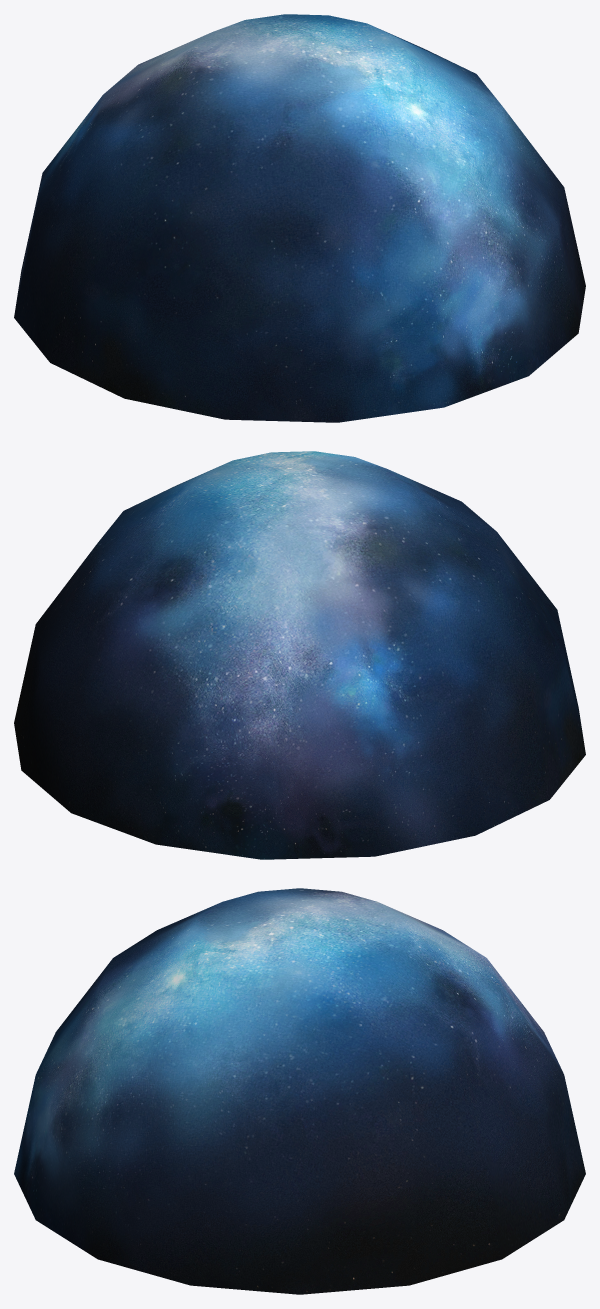
Rendered from Sky3fbx.fbx.
3 renders of one model, top to bottom at view 1: azimuth 30°, elevation 25°; view 2: azimuth 150°, elevation 25°; view 3: azimuth 270°, elevation 25°, orthographic.
Parts seen in each view (by area): view 1: LV_AncientTower_Env_AstroSky_SM_KBE; view 2: LV_AncientTower_Env_AstroSky_SM_KBE; view 3: LV_AncientTower_Env_AstroSky_SM_KBE.
Boxes of the visible parts, x1,y1,x2,y2 form: LV_AncientTower_Env_AstroSky_SM_KBE: (14, 14, 585, 422); LV_AncientTower_Env_AstroSky_SM_KBE: (14, 451, 585, 859); LV_AncientTower_Env_AstroSky_SM_KBE: (14, 888, 585, 1294).
Bounding box in the file's own units: 16.07 × 8.04 × 16.07.
1 material, 1 textured.
